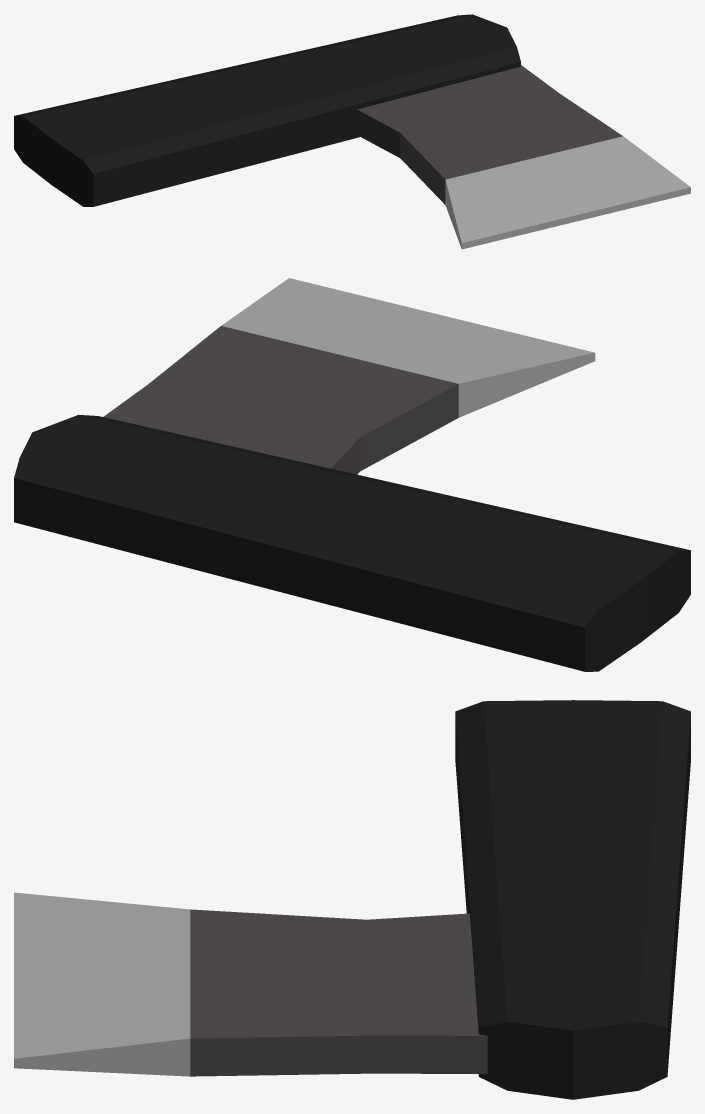
File: clinicpuzzle4.fbx
3 views of the same model, one above another, from view 1: azimuth 30°, elevation 25°; view 2: azimuth 150°, elevation 25°; view 3: azimuth 270°, elevation 25° (orthographic). The views are drawn at different scales.
Parts seen in each view (by area): view 1: clinic puzzle4; view 2: clinic puzzle4; view 3: clinic puzzle4.
Boxes of the visible parts, <box> form: clinic puzzle4: <box>14,14,690,249</box>; clinic puzzle4: <box>14,278,690,671</box>; clinic puzzle4: <box>14,700,690,1099</box>.
Size of the model in its own units: 190 by 18.51 by 164.
